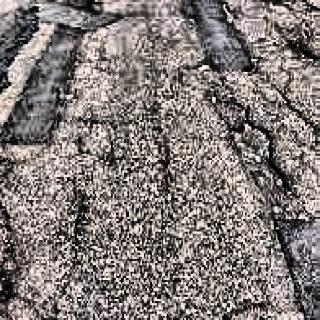alligator-crack: (212, 0, 320, 120)
pothole: (230, 110, 294, 207), (291, 36, 317, 68), (218, 0, 241, 26)
